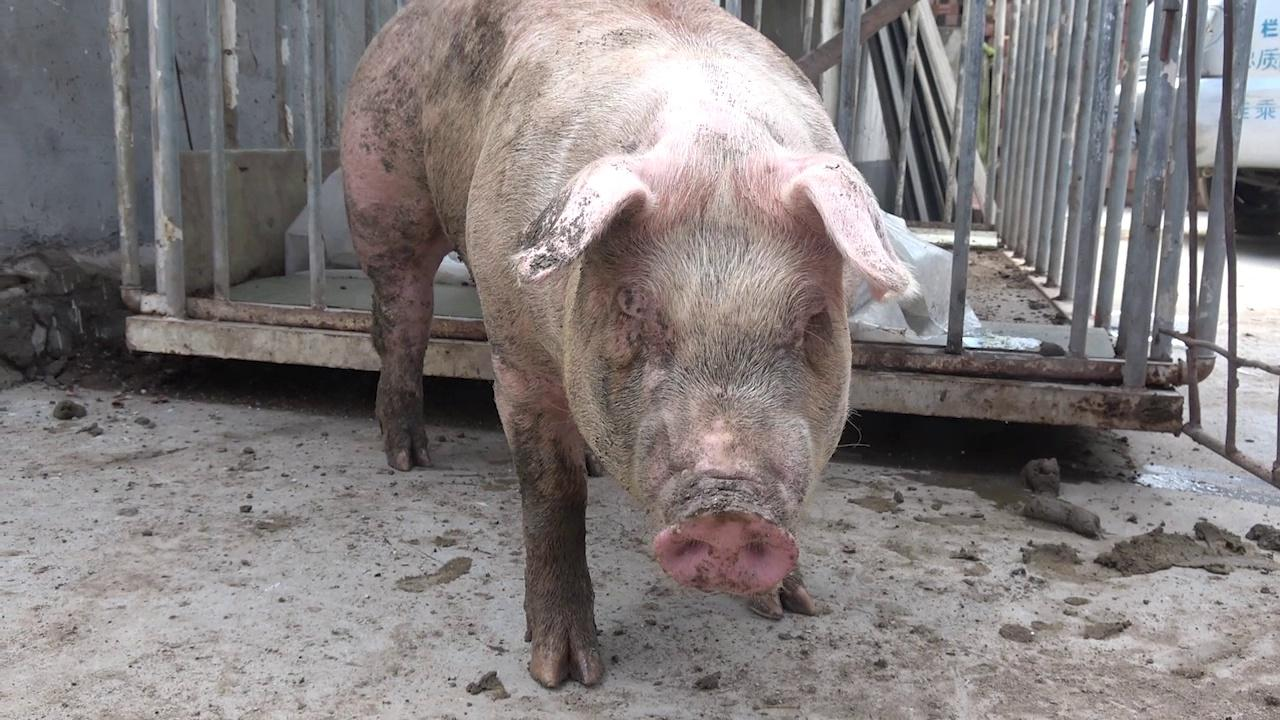Face: (506, 142, 933, 616)
